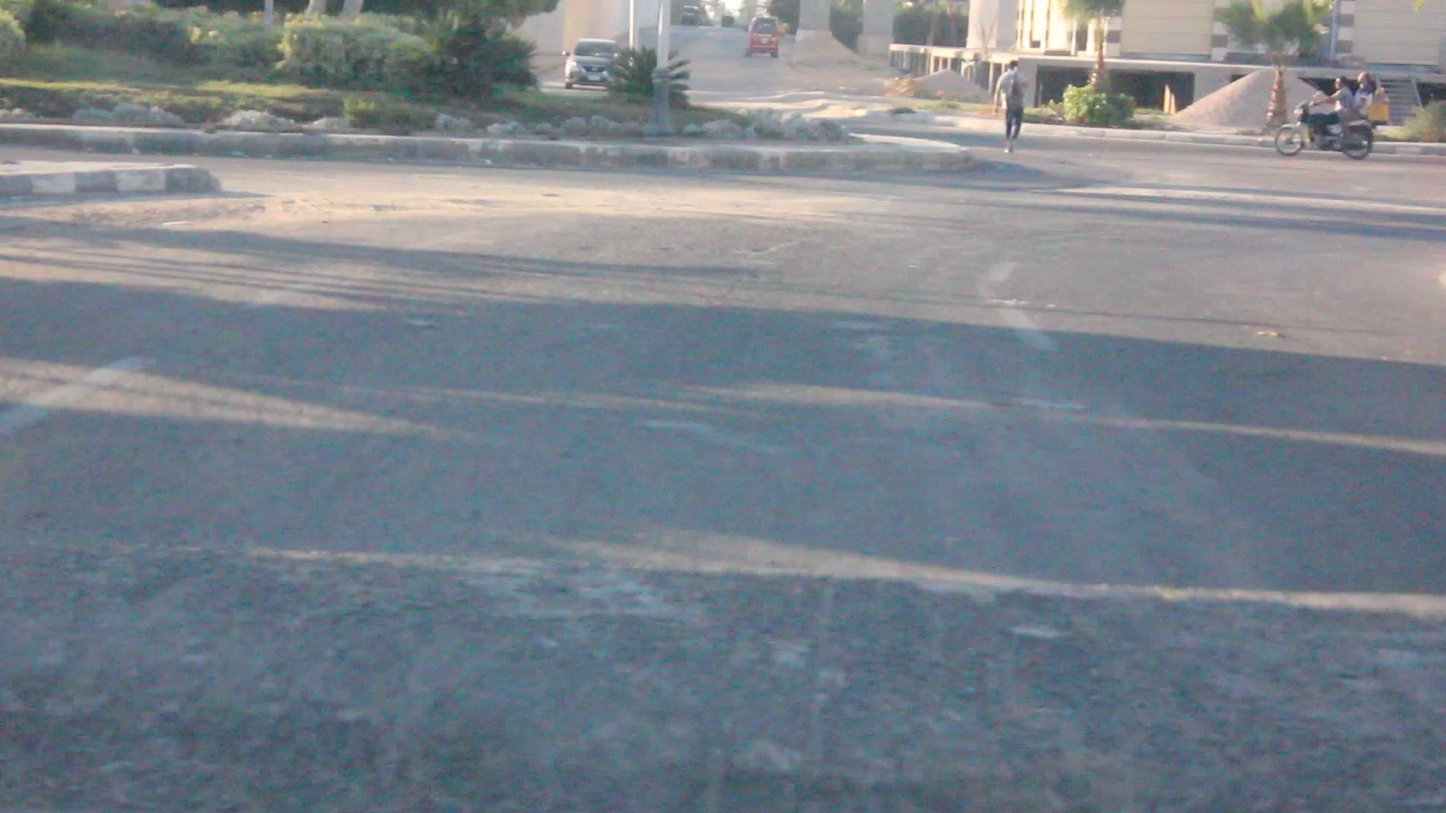Bump: (17, 568, 1446, 813)
